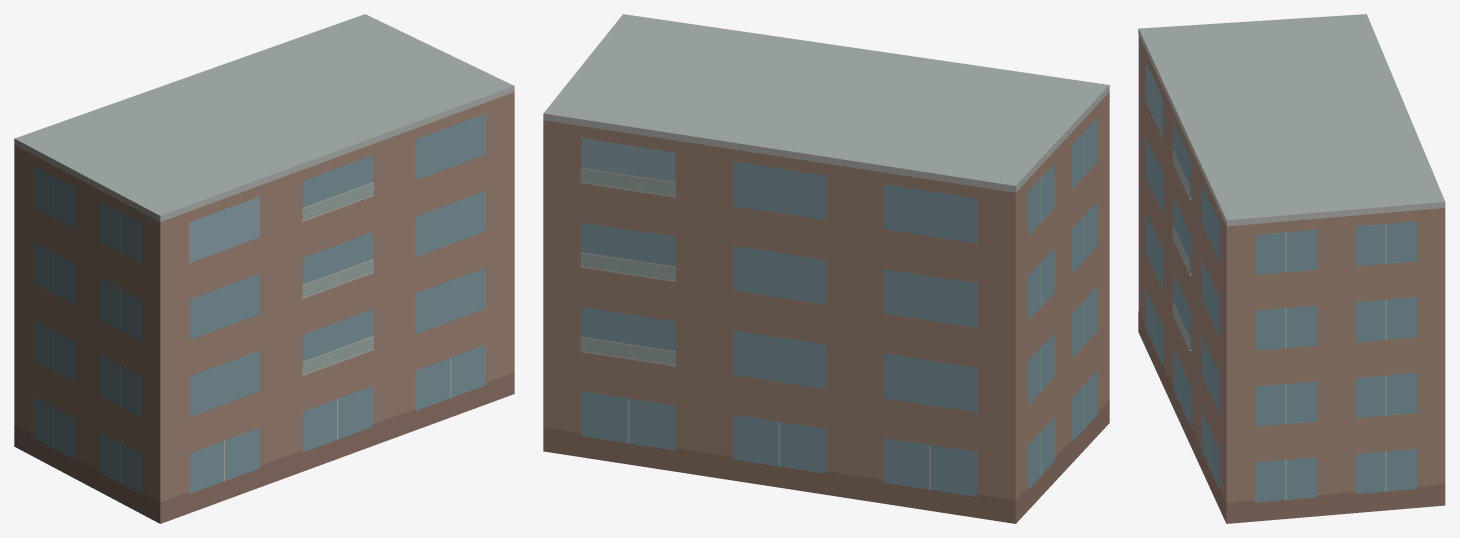
The model's file is survey-upis-32702623.glb.
The picture shows the model from 3 angles, left to right: view 1: azimuth 30°, elevation 25°; view 2: azimuth 150°, elevation 25°; view 3: azimuth 270°, elevation 25°; orthographic projection. The views are drawn at different scales.
Visible parts, largest first — view 1: survey-upis-32702623.tmp; view 2: survey-upis-32702623.tmp; view 3: survey-upis-32702623.tmp.
Part boxes in pixels (x1=…): survey-upis-32702623.tmp: x1=14, y1=14, x2=514, y2=523; survey-upis-32702623.tmp: x1=543, y1=14, x2=1109, y2=523; survey-upis-32702623.tmp: x1=1138, y1=14, x2=1445, y2=523.
Size of the model in its own units: 17.8 by 12.2 by 11.19.
